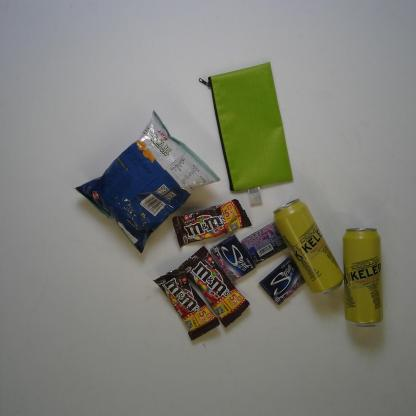Alcohol: (270, 194, 346, 299), (340, 223, 386, 330)
Chocolate: (176, 244, 251, 330), (152, 264, 223, 343), (168, 195, 254, 251)
Gum: (257, 254, 308, 307), (209, 232, 257, 285), (238, 220, 290, 268)
Puffed Food: (69, 106, 225, 258)
Stationery: (196, 59, 297, 209)
